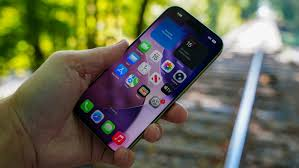phone: (82, 3, 239, 156)
